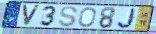3: (40, 5, 57, 27)
8: (98, 6, 117, 30)
J: (117, 7, 138, 30)
O: (78, 7, 98, 29)
S: (58, 6, 79, 28)
V: (21, 4, 41, 27)
